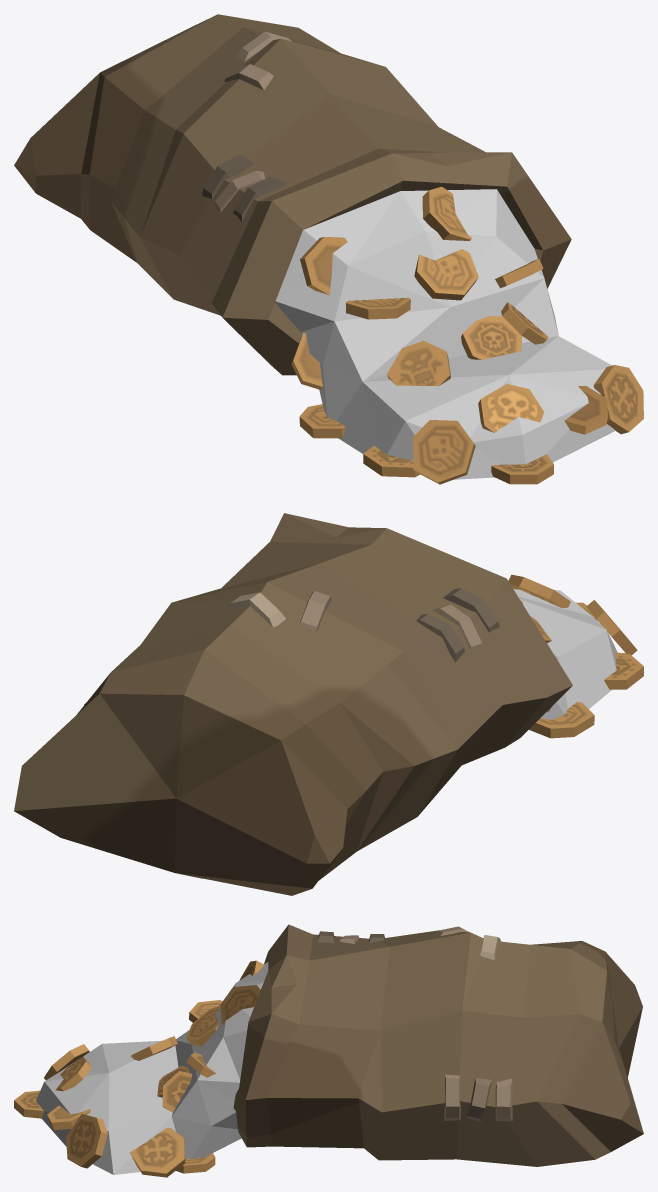
Rendered from SM_Prop_Coin_Sack_01.fbx.
3 renders of one model, top to bottom at view 1: azimuth 30°, elevation 25°; view 2: azimuth 150°, elevation 25°; view 3: azimuth 270°, elevation 25°, orthographic. The views are drawn at different scales.
Parts seen in each view (by area): view 1: SM_Prop_Coin_Sack_01; view 2: SM_Prop_Coin_Sack_01; view 3: SM_Prop_Coin_Sack_01.
Part boxes in pixels (x1=…): SM_Prop_Coin_Sack_01: x1=14, y1=14, x2=643, y2=484; SM_Prop_Coin_Sack_01: x1=14, y1=513, x2=643, y2=895; SM_Prop_Coin_Sack_01: x1=14, y1=924, x2=643, y2=1177.
Size of the model in its own units: 55.66 by 38.4 by 112.
